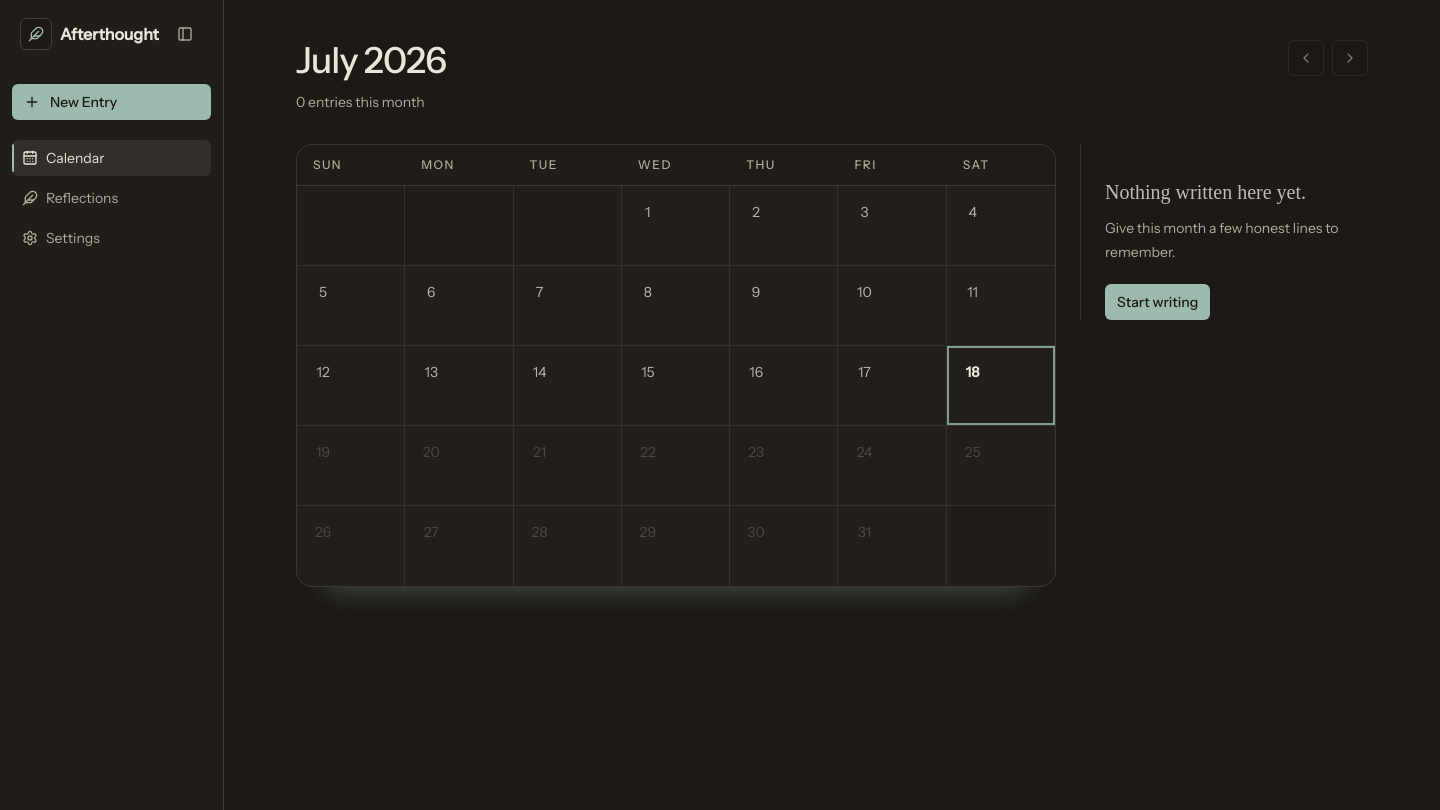
Test case: App › opens Calendar without generating an opening question
Expected: the text "Afterthought" is shown, [60,24,159,44]
Expected: the text "0 entries this month" is shown, [296,92,446,112]
Click the button named "Hide sidebar": (185, 34) [167,16,203,52]
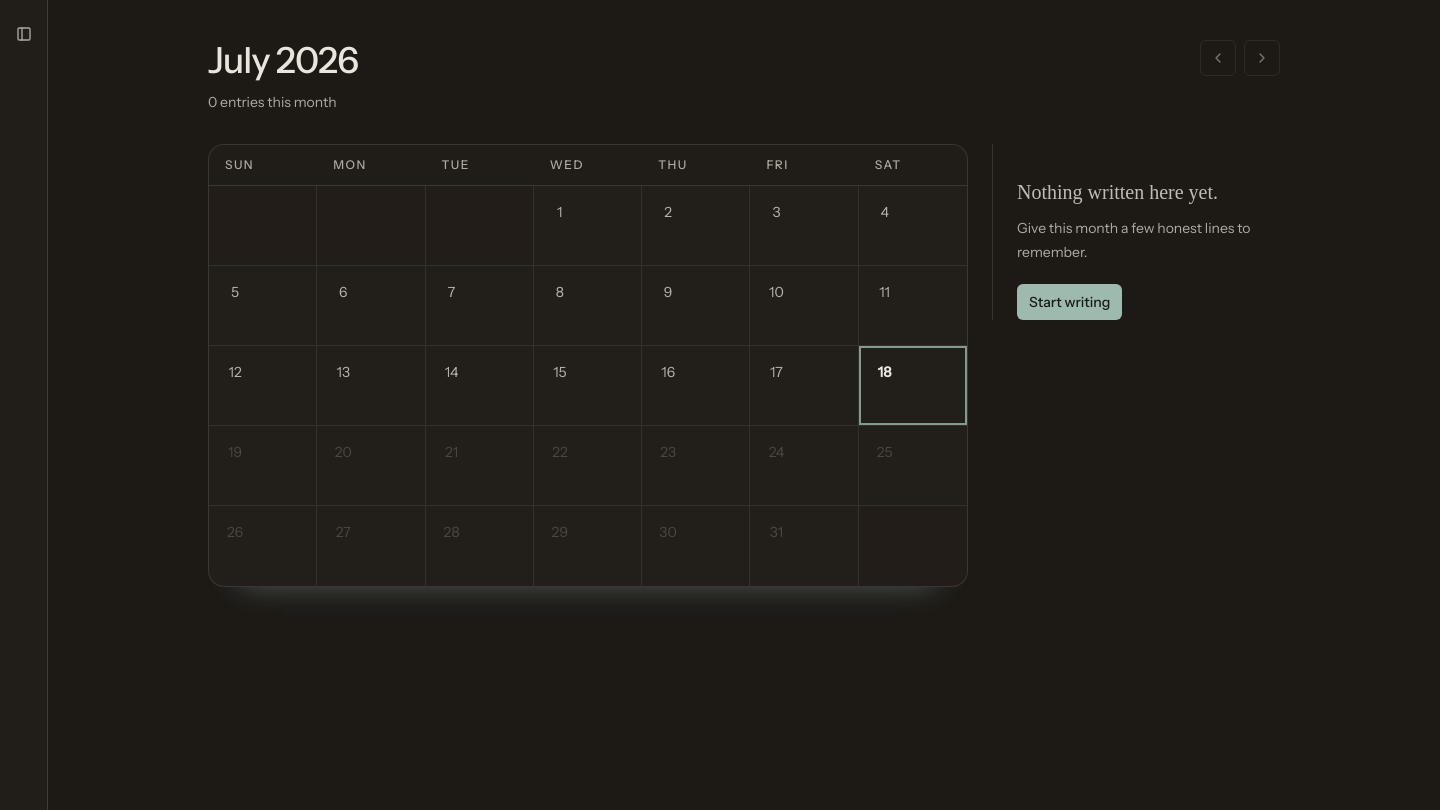
Now the button named "Show sidebar" is shown, box [6,16,42,52]
Now the link "New Entry" is gone
Now the navigation bar "Primary" is gone
